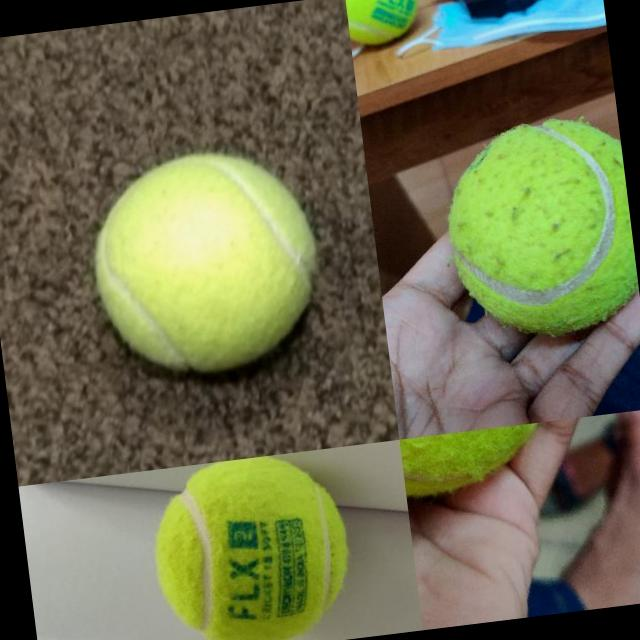Tennis Ball: (83, 141, 330, 385), (436, 110, 640, 344), (142, 446, 361, 640), (399, 418, 579, 496), (344, 0, 421, 49)
